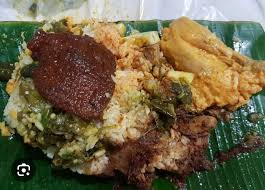Nasi padang: (5, 14, 265, 181)
